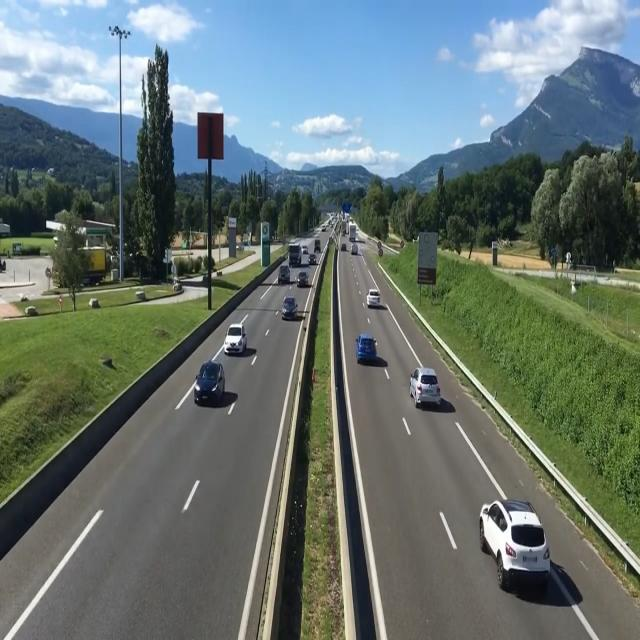car: (487, 498, 551, 593), (192, 359, 228, 409), (410, 366, 443, 412), (222, 318, 254, 362), (356, 333, 381, 368), (281, 292, 299, 324), (367, 290, 383, 311), (279, 266, 290, 284), (298, 272, 310, 288), (350, 242, 358, 256)
truck: (288, 239, 301, 267)
